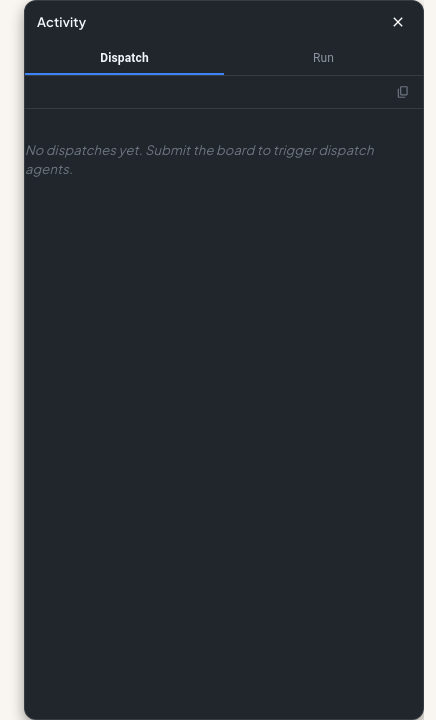
Test: DispatchPanel › switches to Run tab on click
Click the text "Run": (324, 58) left=313, top=51, right=334, bottom=65
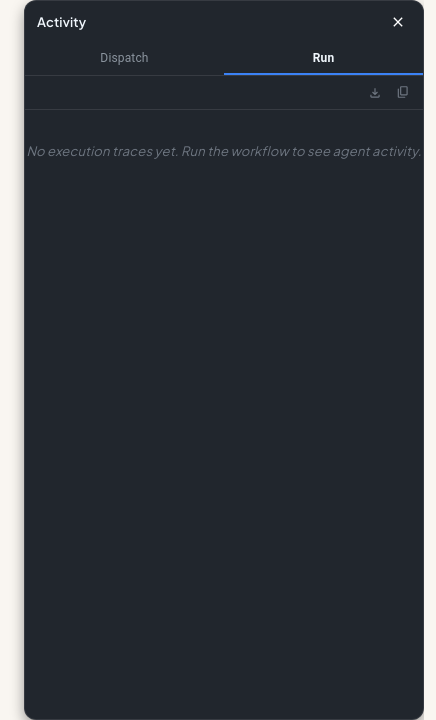
Result: the text "No execution traces yet" is shown at left=26, top=143, right=422, bottom=159
